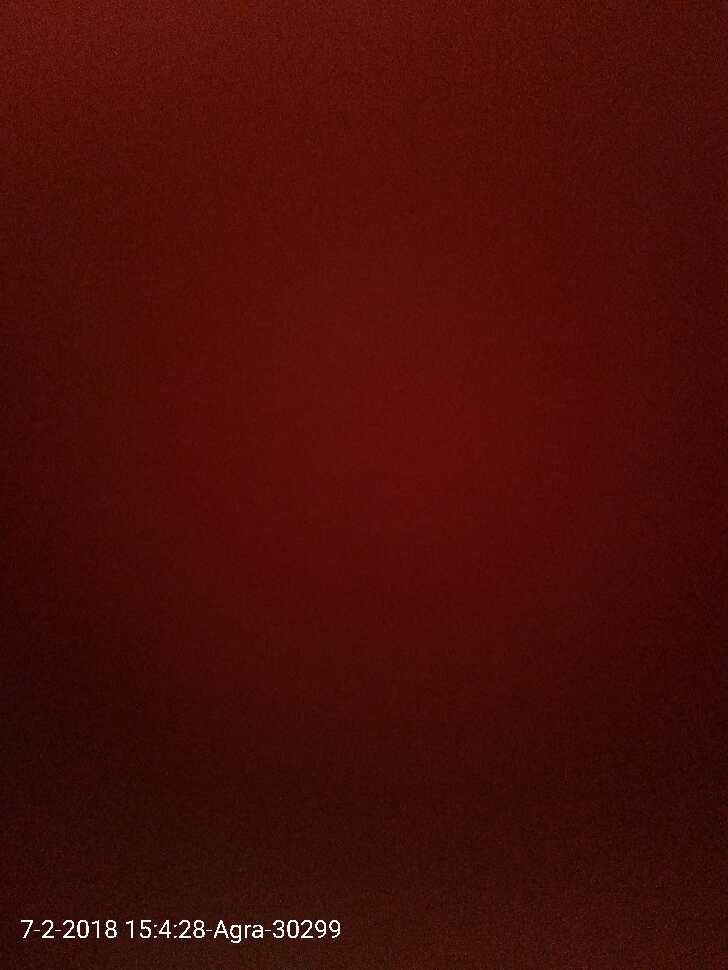reject: (329, 371, 405, 432)
